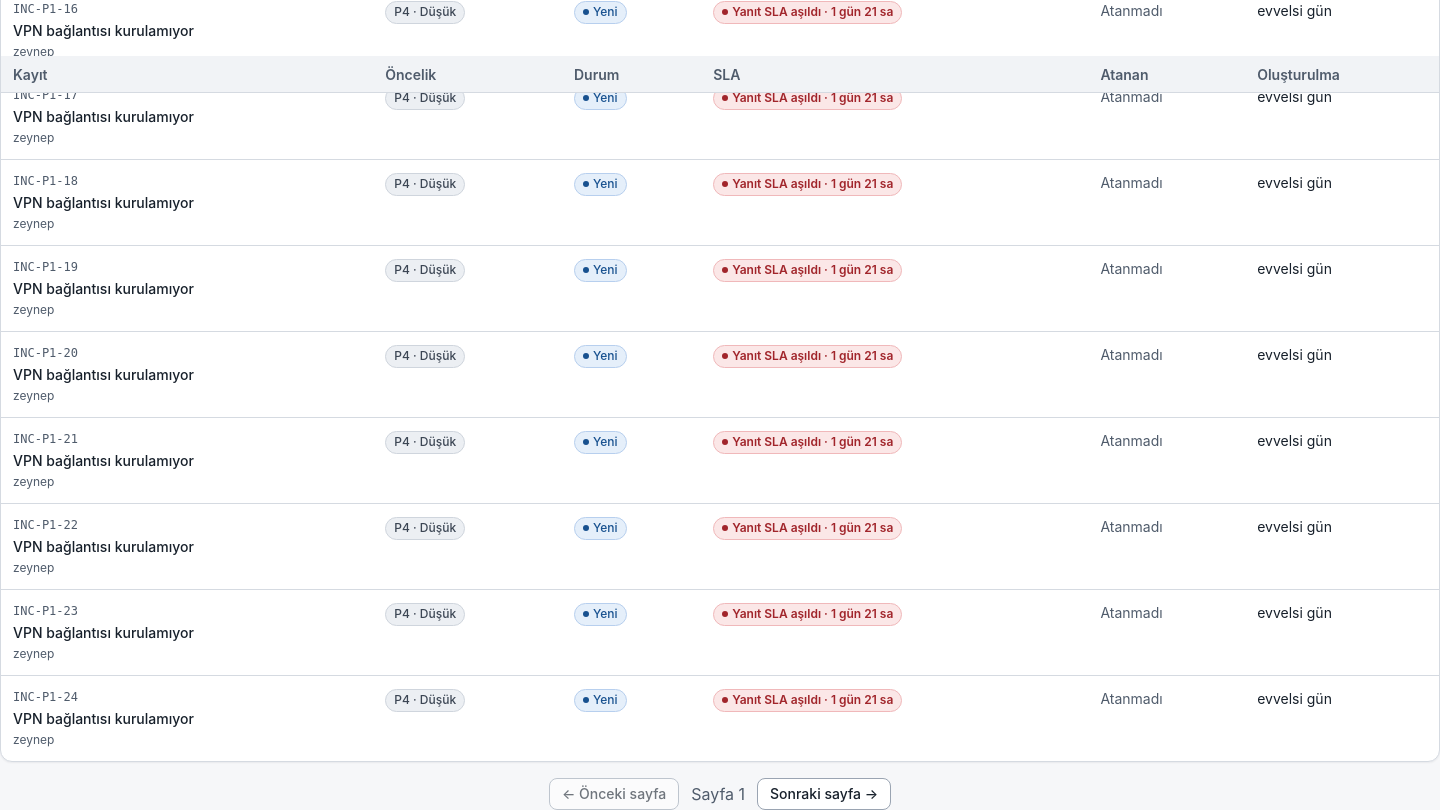
it: IncidentQueuePage › sayfalama: fazladan kayıt varsa sonraki sayfa açılır
(page scrolled)
Expected: the button "← Önceki sayfa" is disabled, [549, 778, 679, 809]
Click the button "Sonraki sayfa →": (824, 794) [757, 778, 891, 809]
(page scrolled)
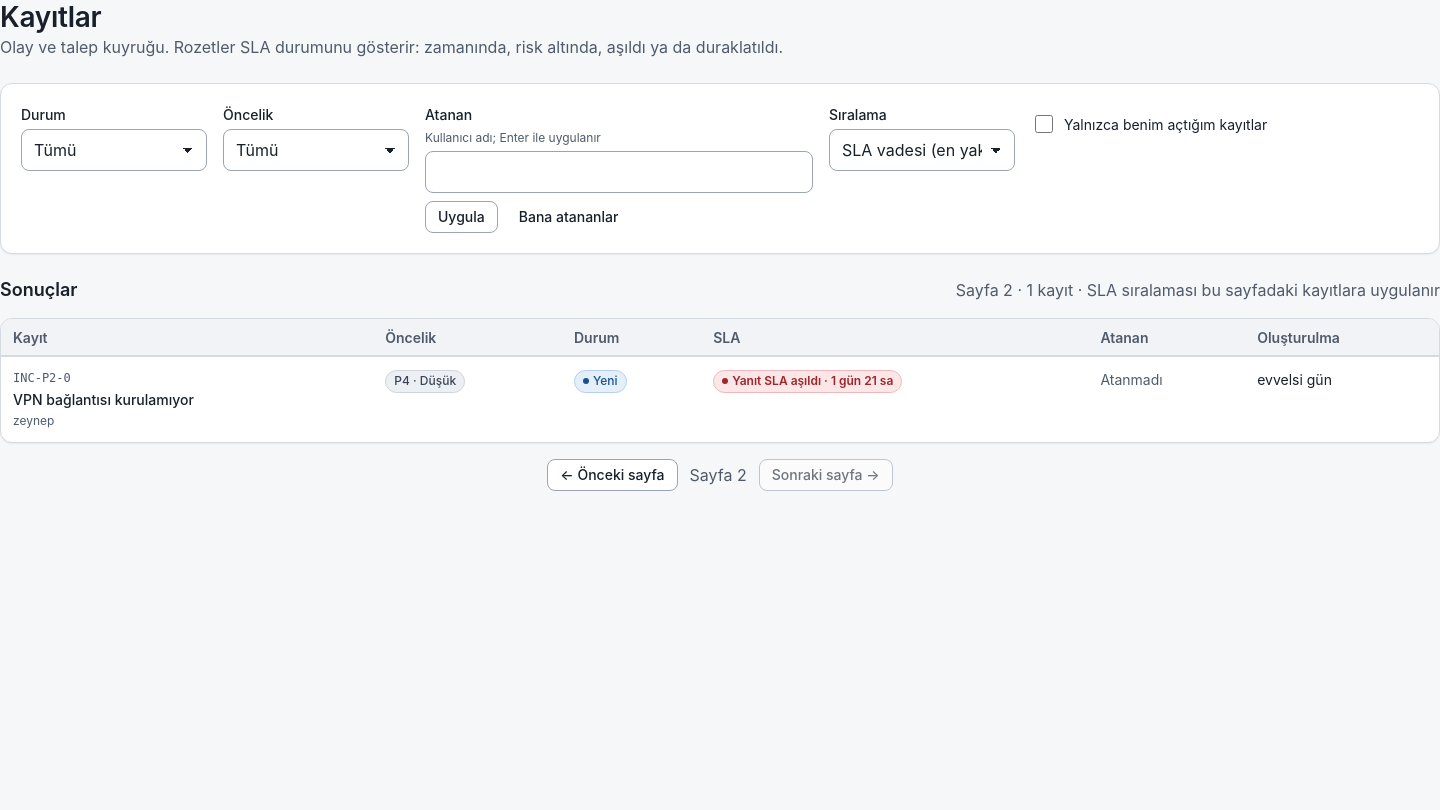
Expected: the text "INC-P2-0" is shown, [13, 371, 71, 385]
Expected: the button "Sonraki sayfa →" is disabled, [759, 459, 893, 491]
Click the button "← Önceki sayfa": (612, 475) [547, 459, 678, 491]
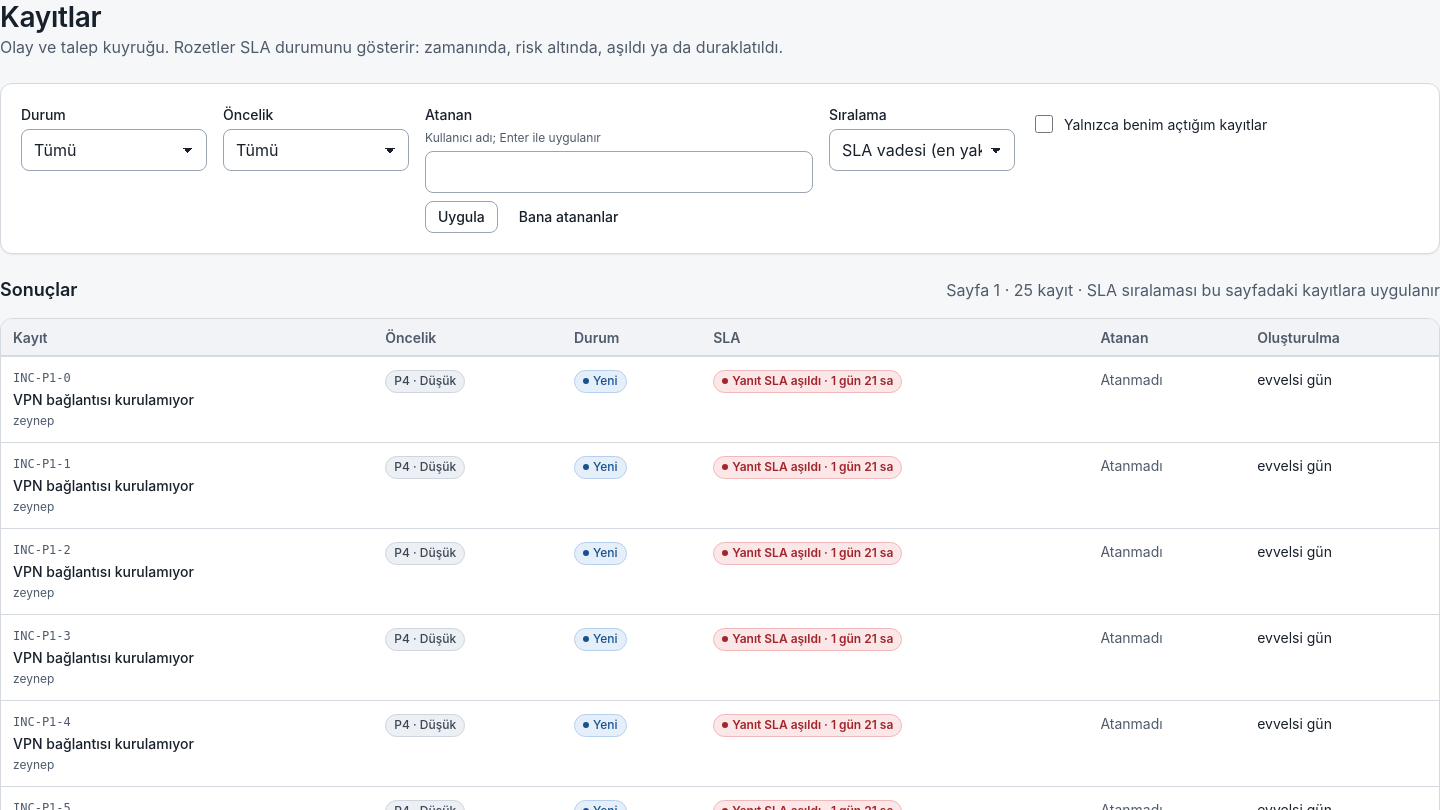
Expected: the text "INC-P1-0" is shown, [13, 371, 71, 385]
